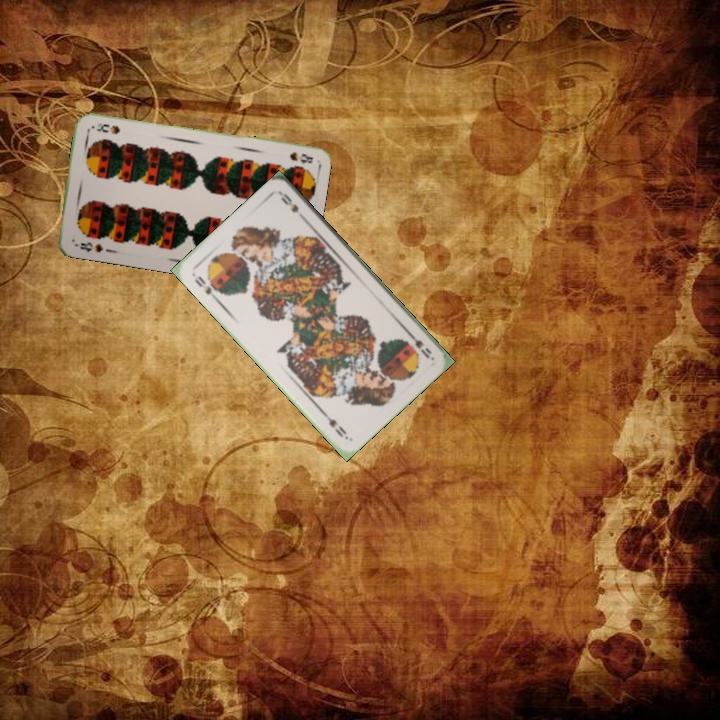S8: (71, 238, 105, 255), (286, 148, 315, 166)
SO: (403, 328, 435, 361), (190, 272, 220, 303)
